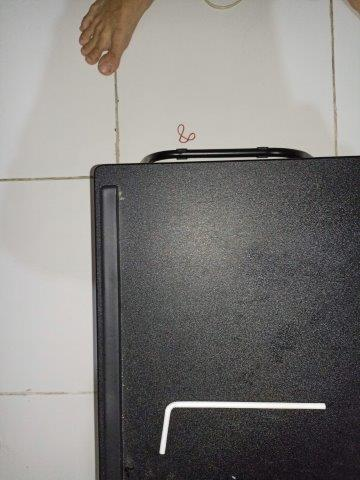karet: (176, 122, 195, 144)
sedotan: (159, 400, 325, 454)
